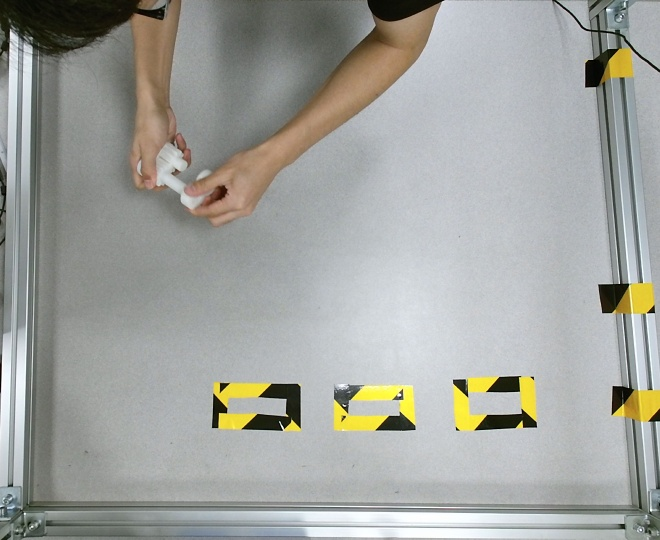stage_3: (137, 139, 187, 194)
